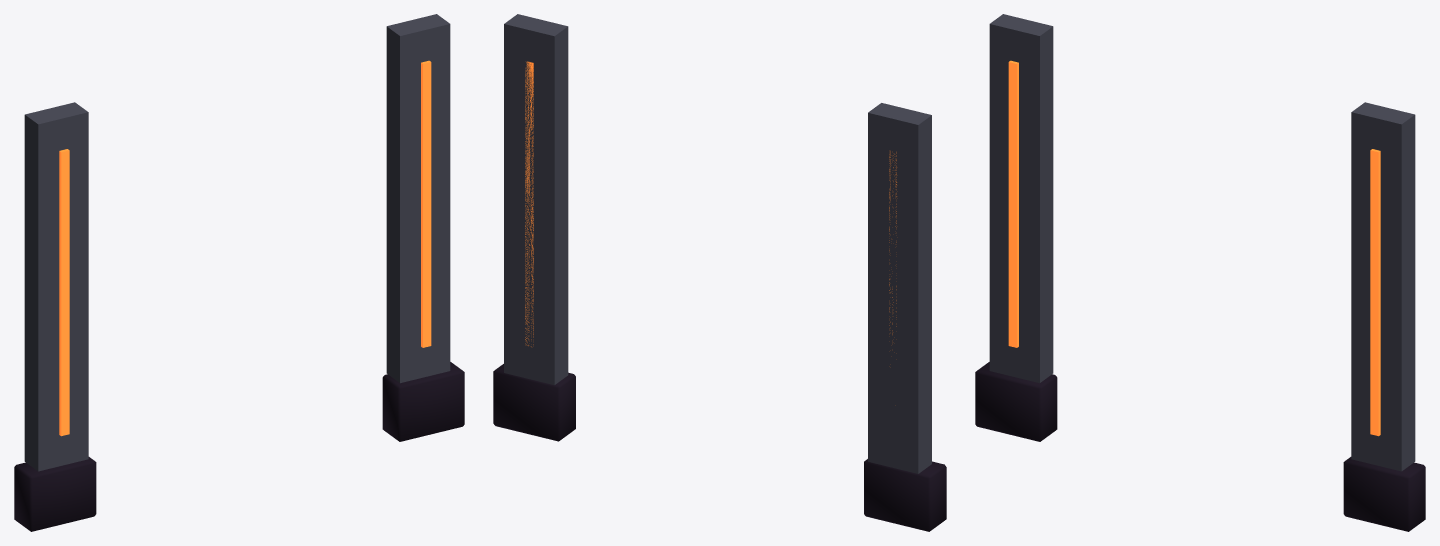
Rendered from kit_amber_doorway.glb.
3 renders of one model, left to right at view 1: azimuth 30°, elevation 25°; view 2: azimuth 150°, elevation 25°; view 3: azimuth 330°, elevation 25°, orthographic.
Parts seen in each view (by area): view 1: kit_amber_doorway; view 2: kit_amber_doorway; view 3: kit_amber_doorway.
Part boxes in pixels (x1,y1,x2,y2): kit_amber_doorway: [14, 14, 464, 531]; kit_amber_doorway: [493, 14, 946, 531]; kit_amber_doorway: [975, 14, 1425, 531].
Bounding box in the file's own units: 1.3 × 1.15 × 0.09.
